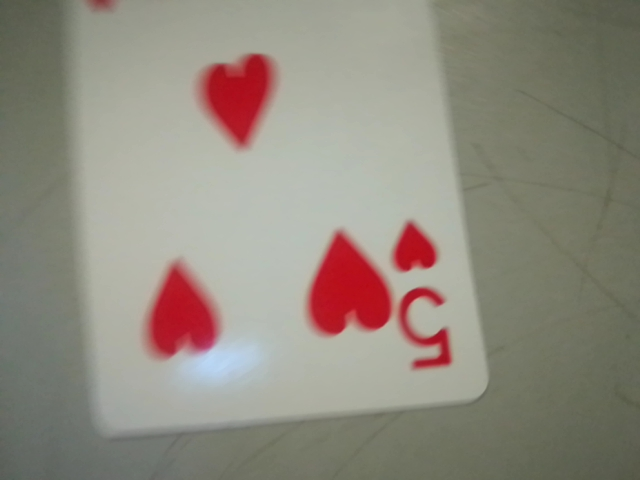hx 5: (386, 205, 470, 386)
